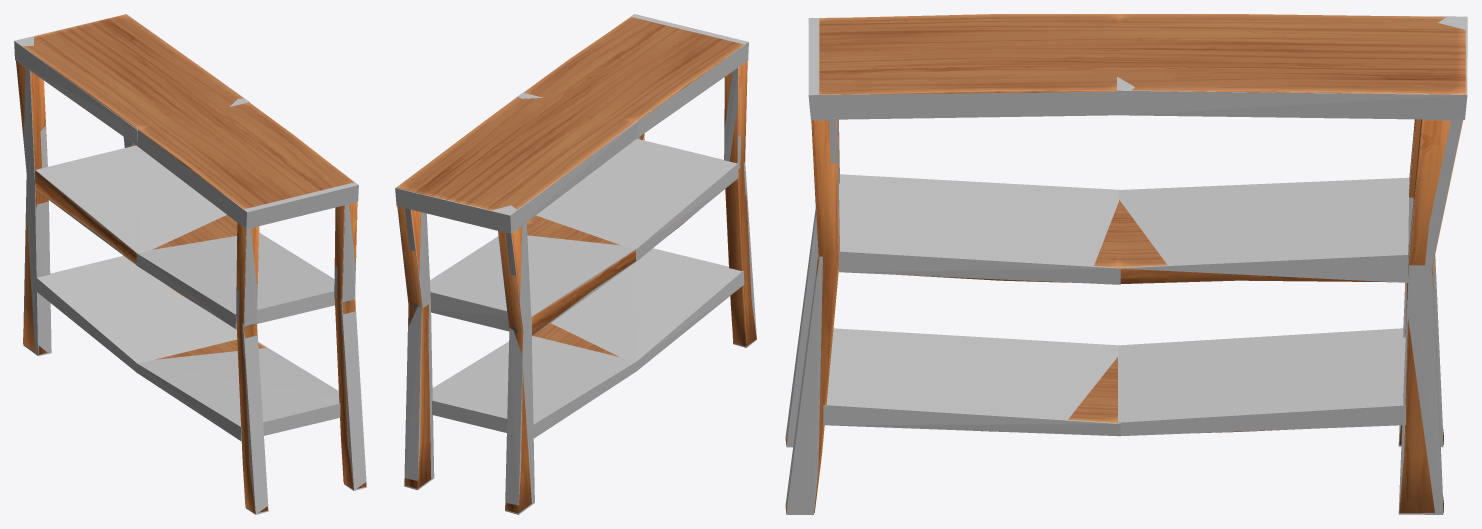
Rendered from SM_BarrelStands01_3.fbx.
The picture shows the model from 3 angles, left to right: view 1: azimuth 30°, elevation 25°; view 2: azimuth 150°, elevation 25°; view 3: azimuth 270°, elevation 25°; orthographic projection. The views are drawn at different scales.
Visible parts, largest first — view 1: SM_BarrelStands01_3_ConvexHulls, SM_BarrelStands01_3; view 2: SM_BarrelStands01_3_ConvexHulls, SM_BarrelStands01_3; view 3: SM_BarrelStands01_3_ConvexHulls, SM_BarrelStands01_3.
Part boxes in pixels (x1,y1,x2,y2): SM_BarrelStands01_3_ConvexHulls: (14,14,366,514); SM_BarrelStands01_3: (16,14,366,513); SM_BarrelStands01_3_ConvexHulls: (395,14,756,514); SM_BarrelStands01_3: (396,17,756,513); SM_BarrelStands01_3_ConvexHulls: (785,16,1467,514); SM_BarrelStands01_3: (786,14,1466,513).
Size of the model in its own units: 86.4 by 319 by 219.
2 materials, 1 textured.
